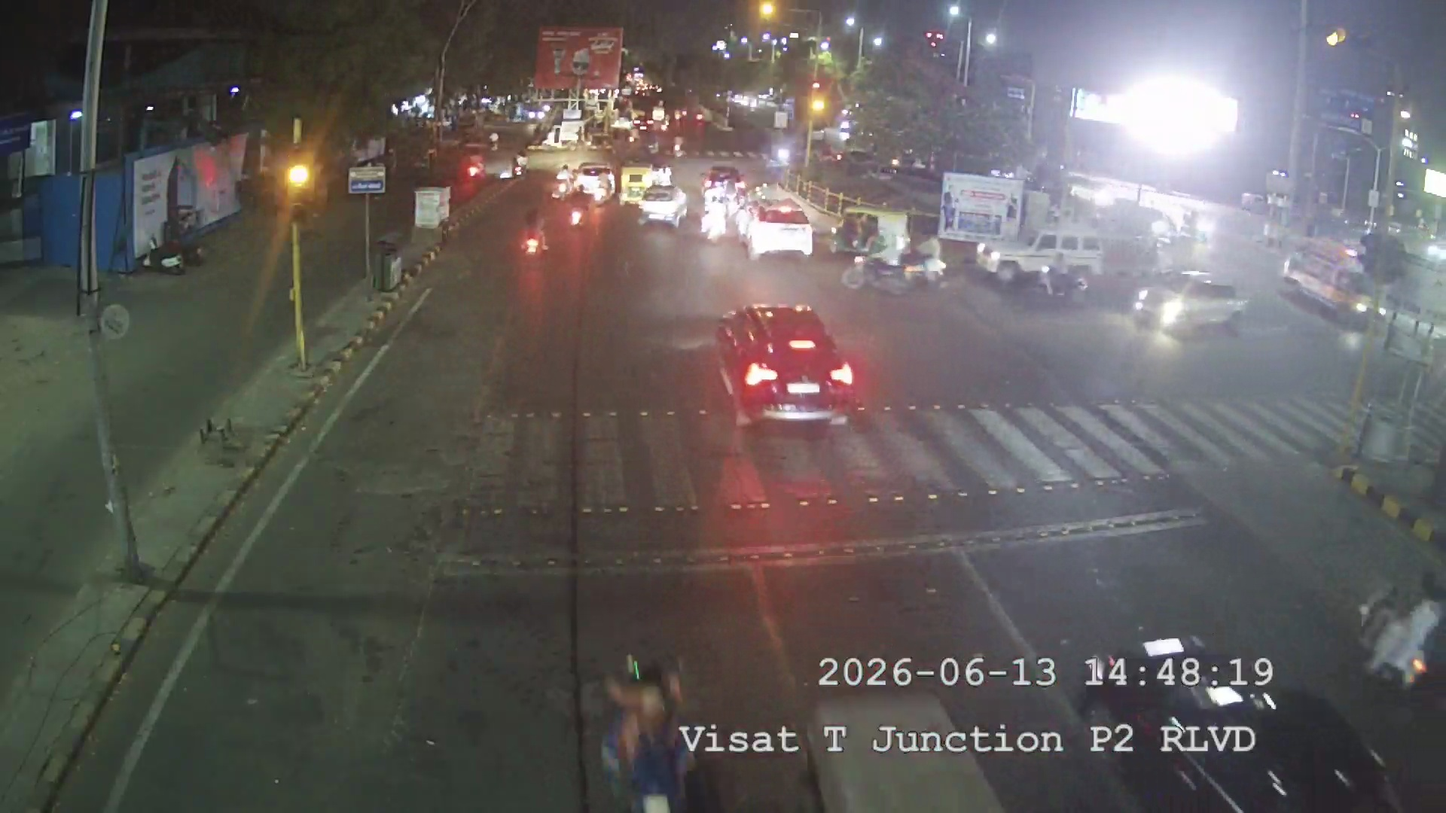auto_rickshaw: (829, 203, 947, 268), (829, 203, 903, 260), (560, 159, 616, 203), (620, 161, 675, 203)
car: (707, 298, 856, 418), (971, 227, 1107, 293), (1130, 268, 1251, 340), (1279, 241, 1374, 314), (739, 192, 814, 256), (638, 183, 687, 228)
two_wheeler: (1344, 566, 1446, 740), (516, 204, 552, 265), (563, 194, 591, 233)
